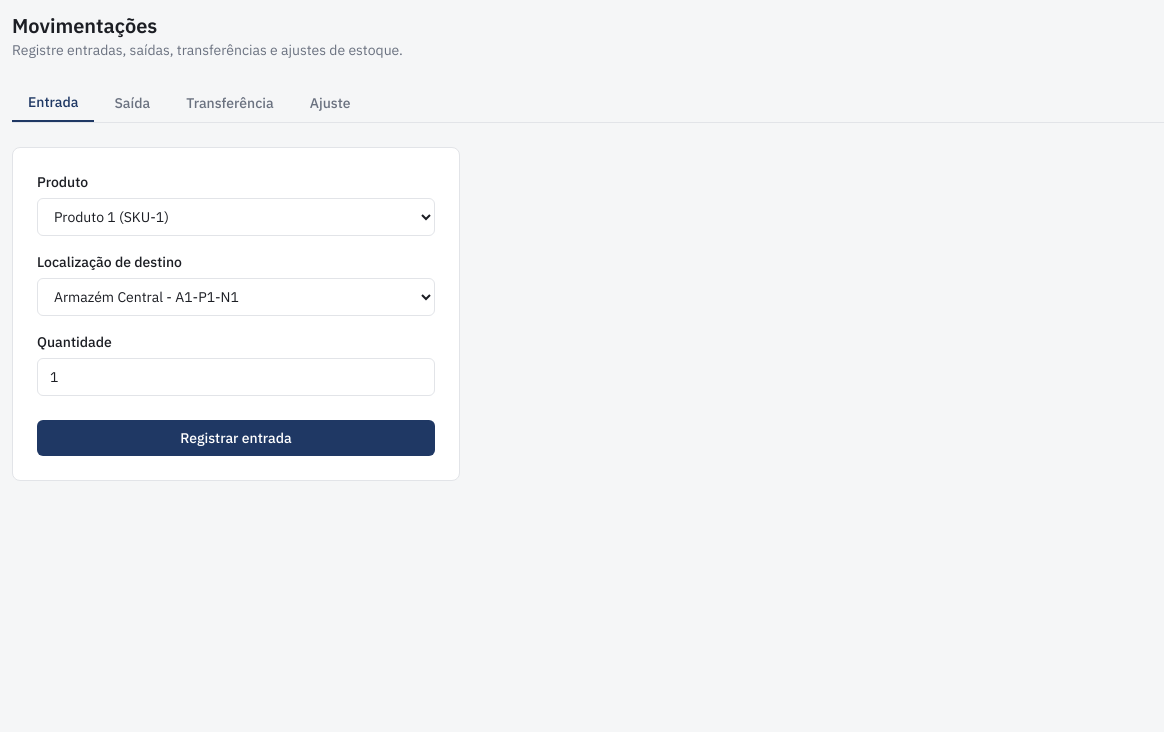
MovimentacoesPage › aba Ajuste mostra 'Quantidade contada' (não 'Quantidade') e o saldo atual do sistema
Expected: the dropdown labelled "Localização de destino" is shown, [37,278,435,316]
Click the button "Ajuste": [330, 103] box [294,84,366,122]
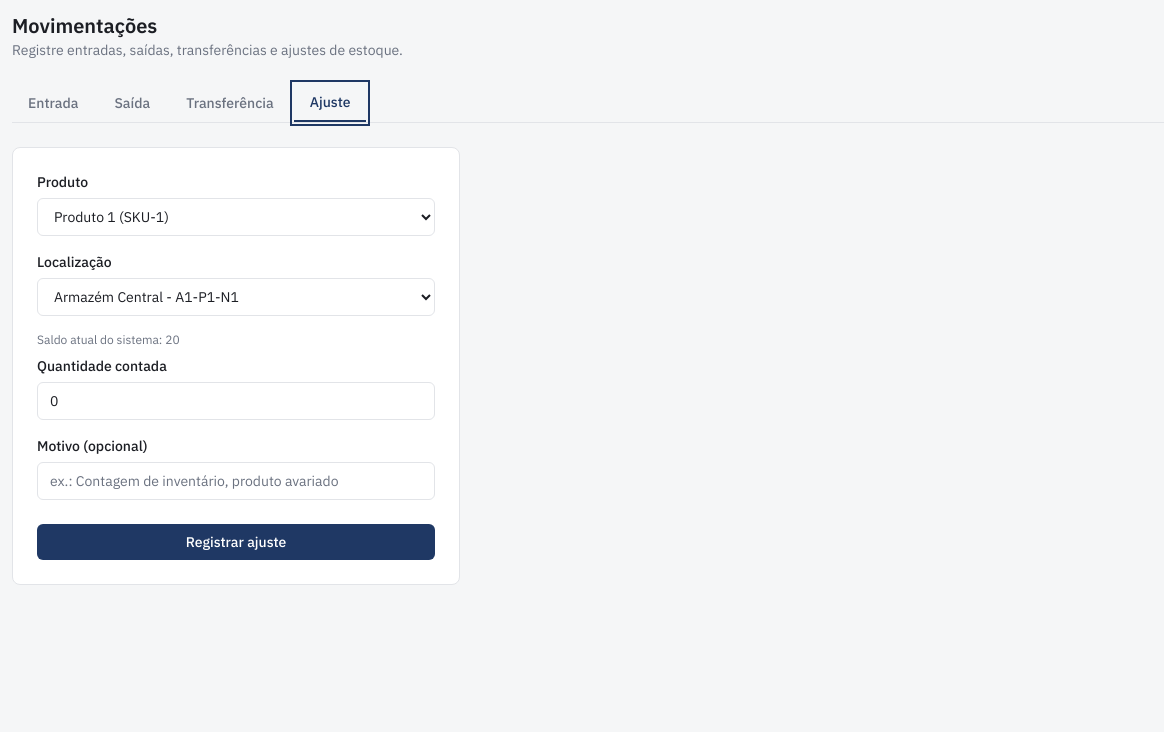
Expected: the text "Saldo atual do sistema: 20" is shown, [37,332,180,347]
Expected: the number field labelled "Quantidade contada" is shown, [37,382,435,420]
